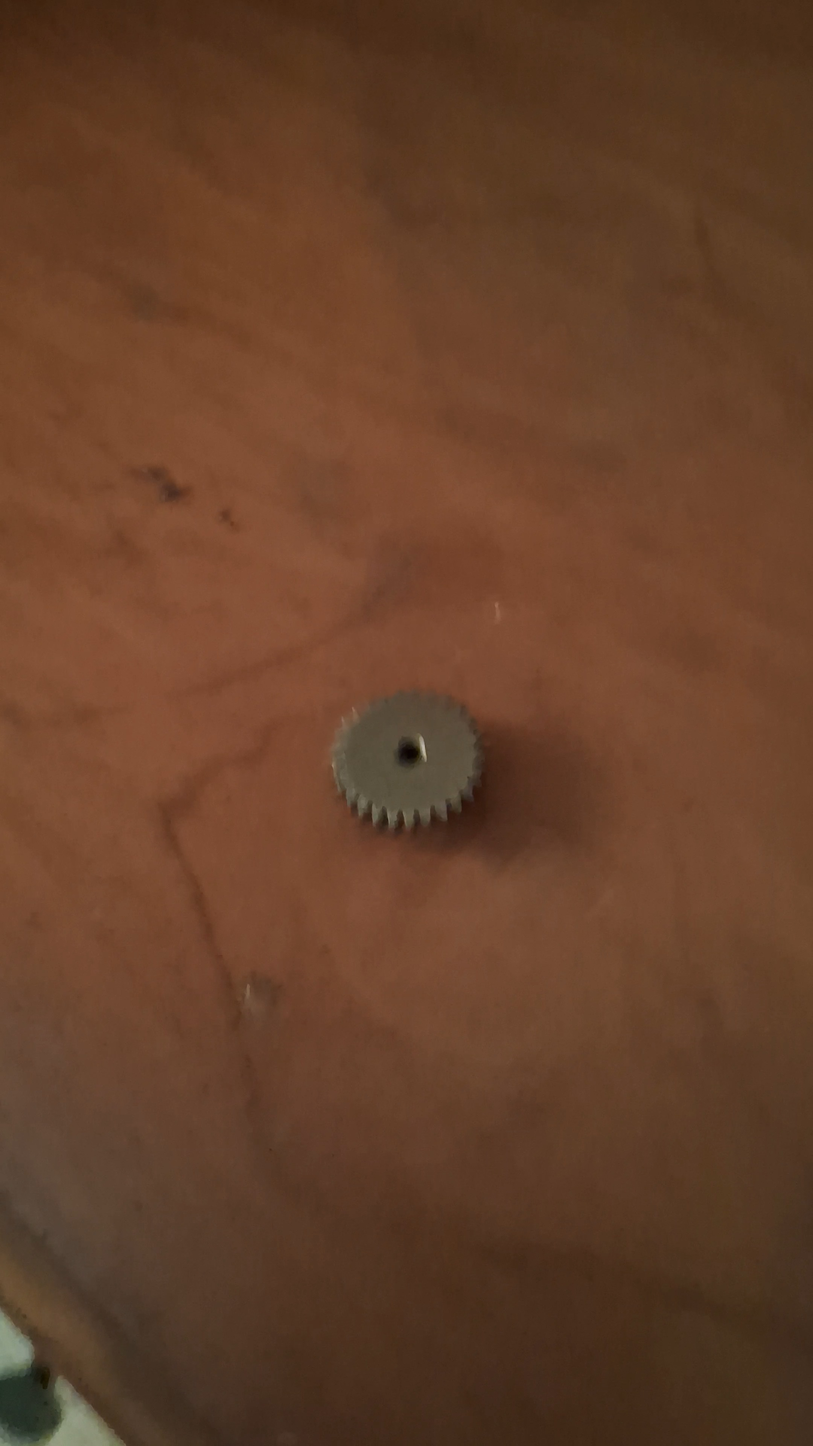spur gear: (333, 692, 481, 829)
